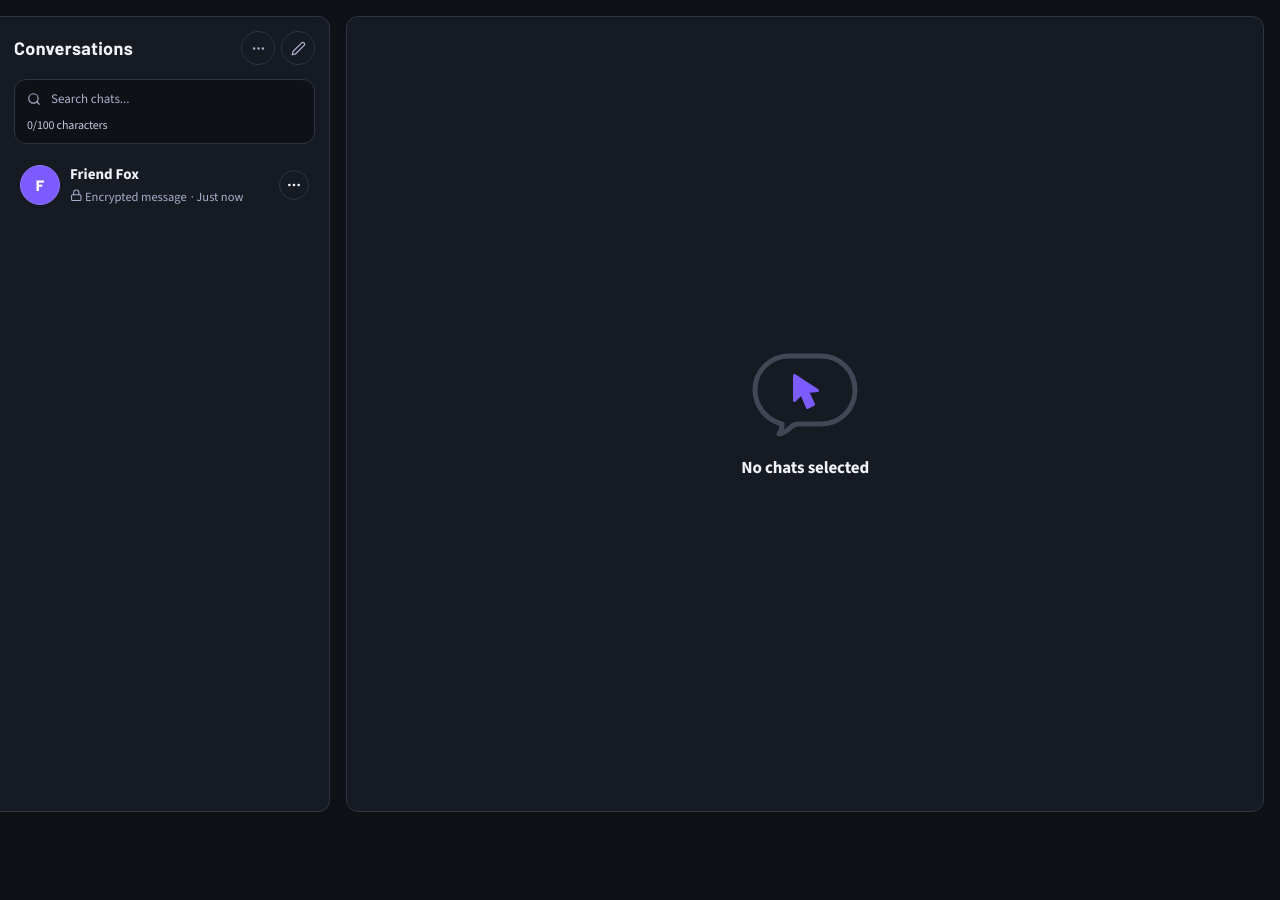
Test: New chat and New group popups › shows why someone cannot be messaged instead of failing silently
Click the button named "New conversation": x=298, y=48 [281, 31, 315, 65]
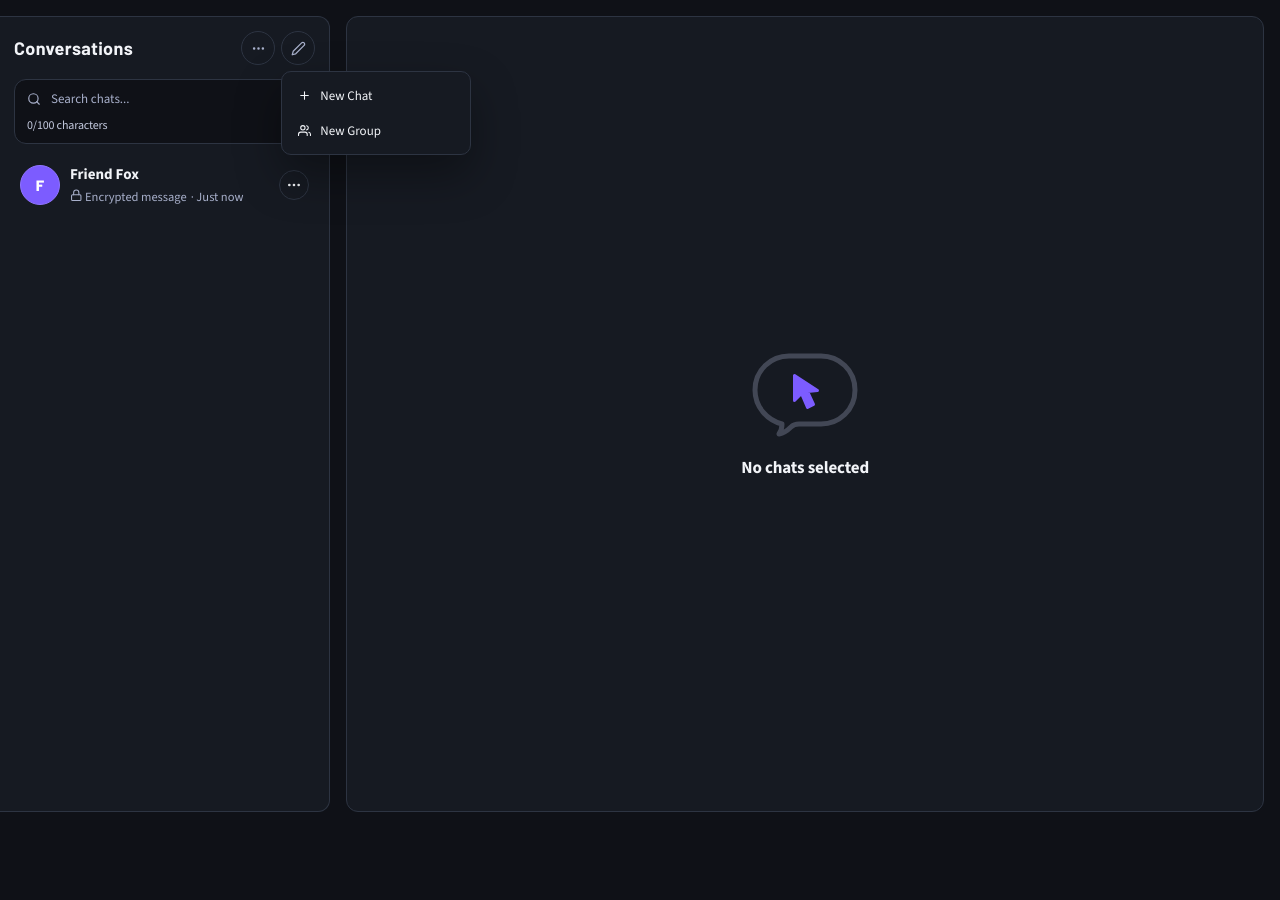
Click the menu item "New Chat": x=376, y=96 [288, 78, 464, 113]
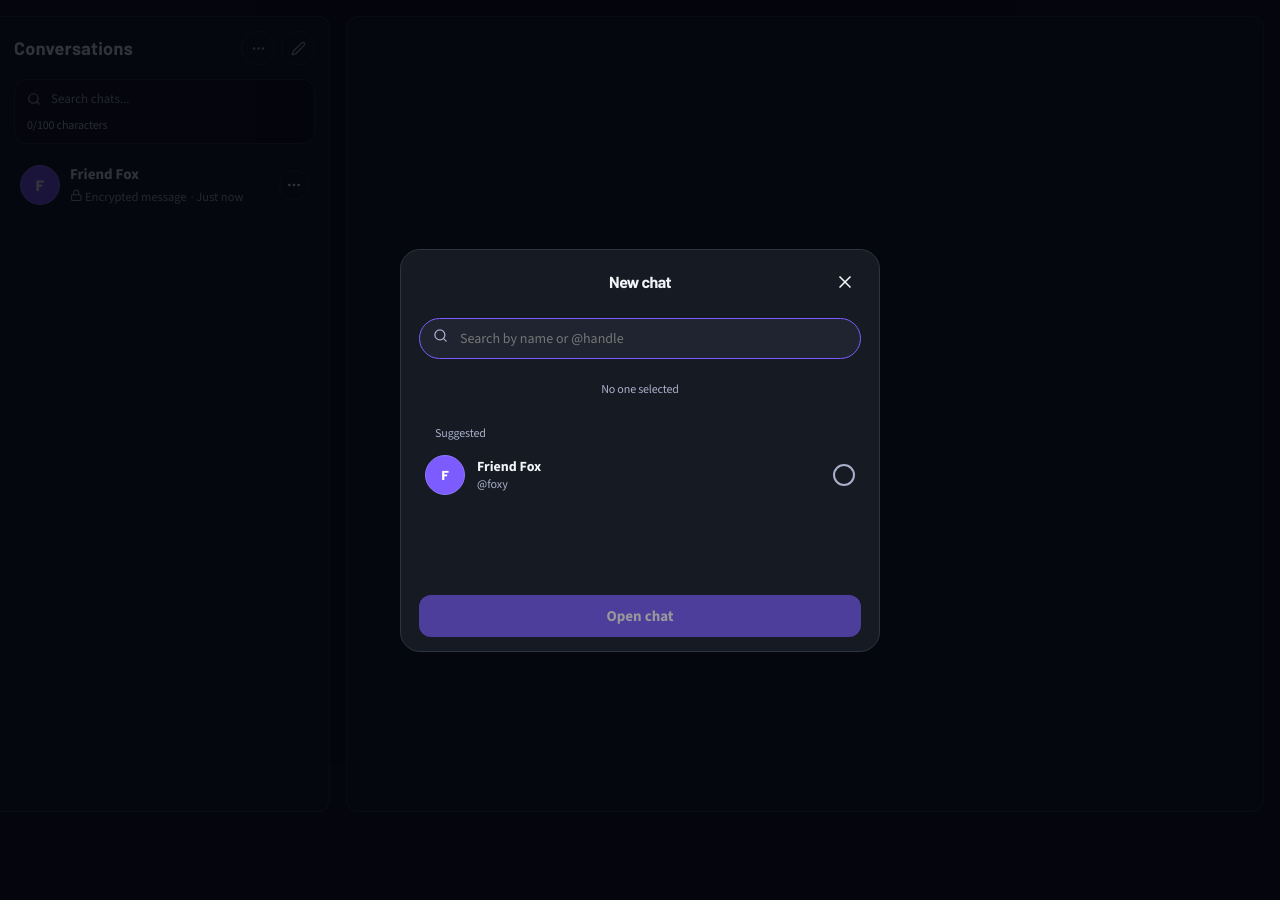
Click the radio button labelled "Friend Fox": x=445, y=474 [419, 446, 861, 502]
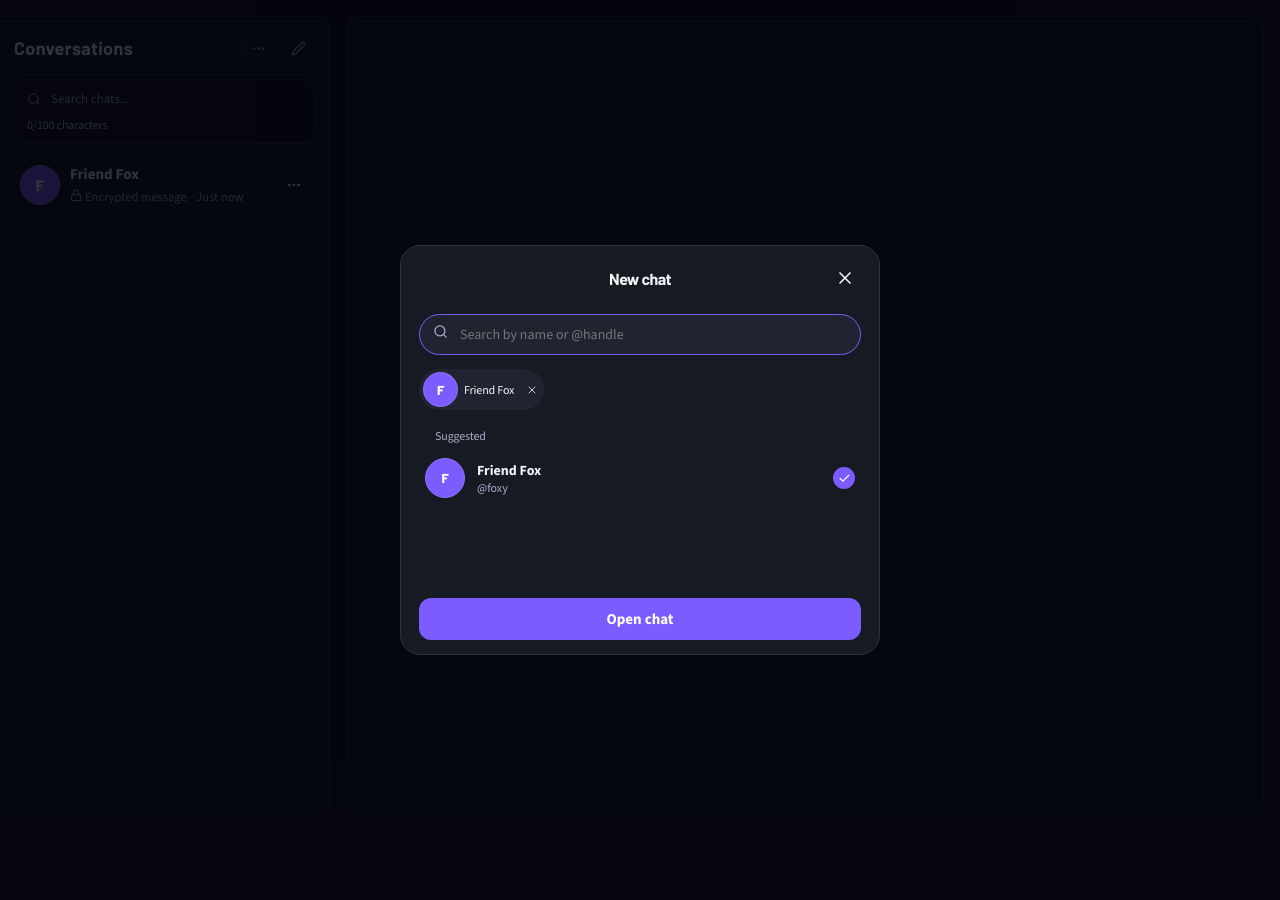
Click the button "Open chat": x=640, y=619 [419, 598, 861, 640]
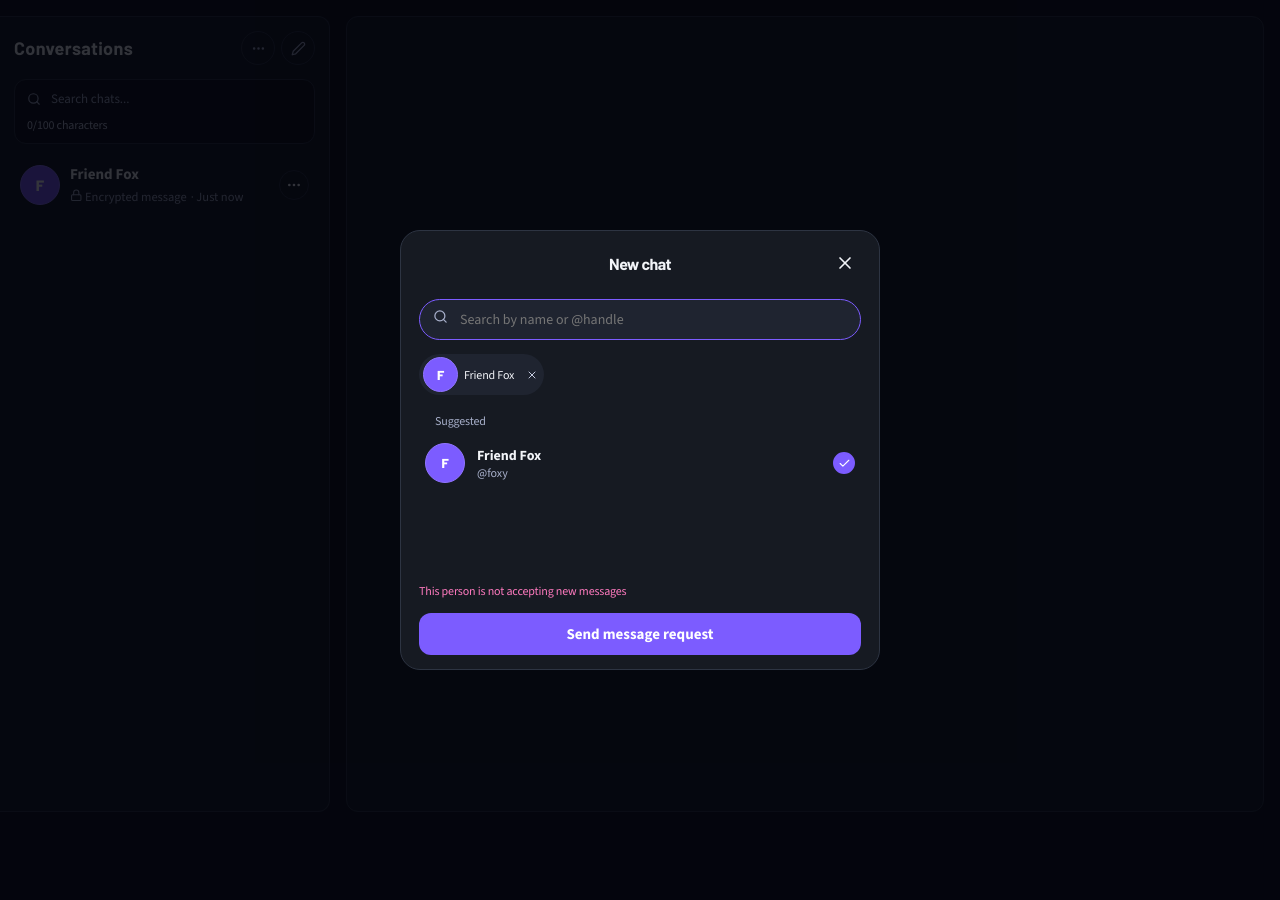
expect the message reads "This person is not accepting new messages": met, box [419, 583, 626, 599]
